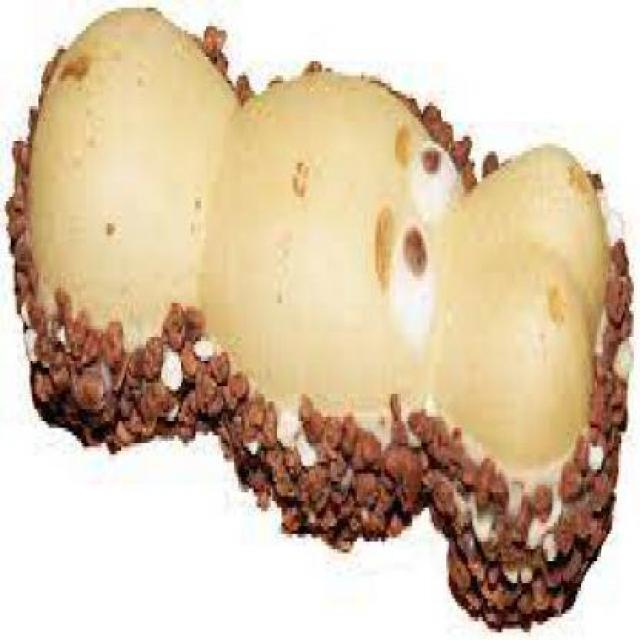Merendine packaged: (10, 8, 632, 632)
